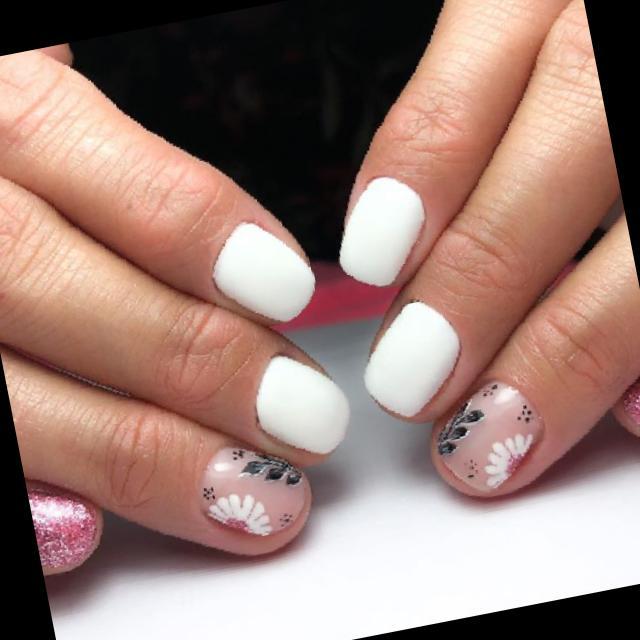Nail: (435, 382, 544, 493), (364, 300, 460, 416), (214, 223, 315, 321), (255, 355, 350, 455), (339, 177, 425, 287), (204, 448, 310, 536), (28, 490, 97, 569), (621, 380, 640, 436)
